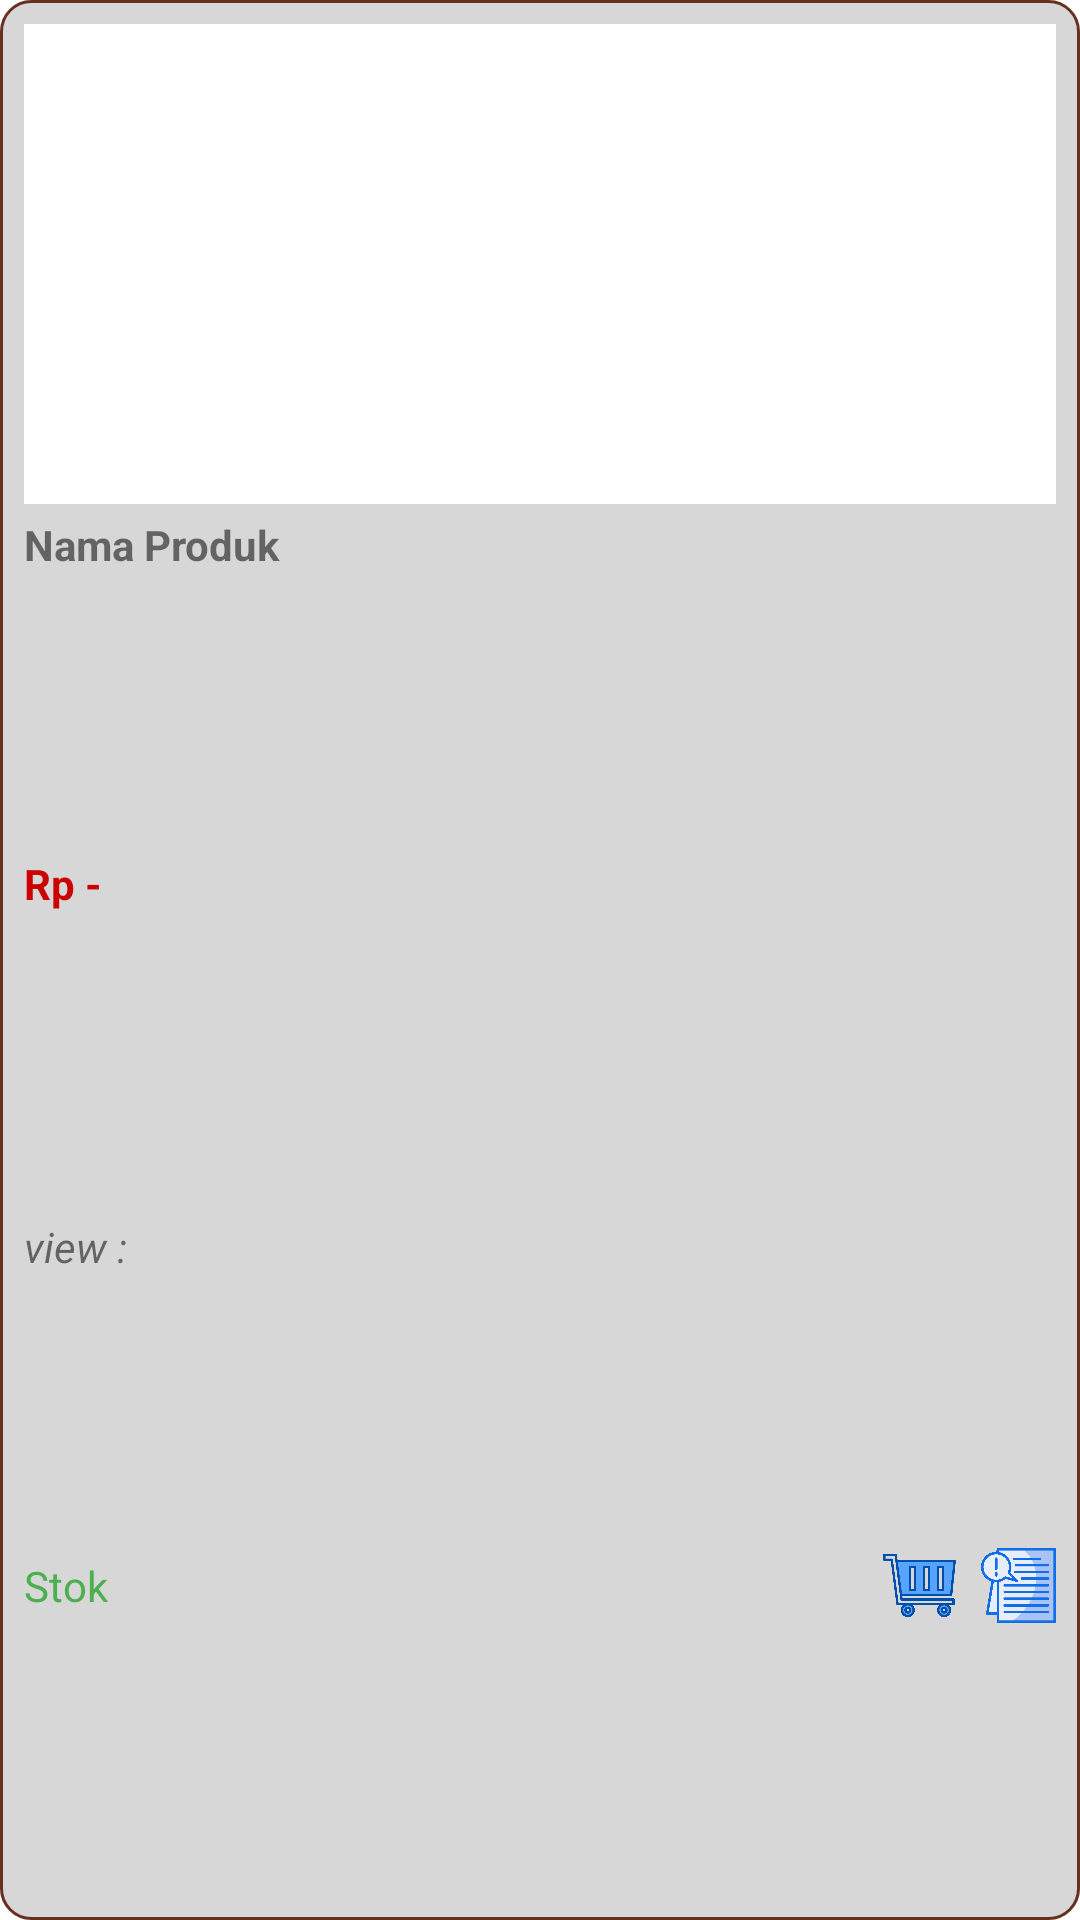

Named icons in this screenshot (1080px x 1920px) and their centers, point (x, y):
Lihat deskripsi: point (1018, 1585)
Tambah ke keranjang: point (919, 1585)
